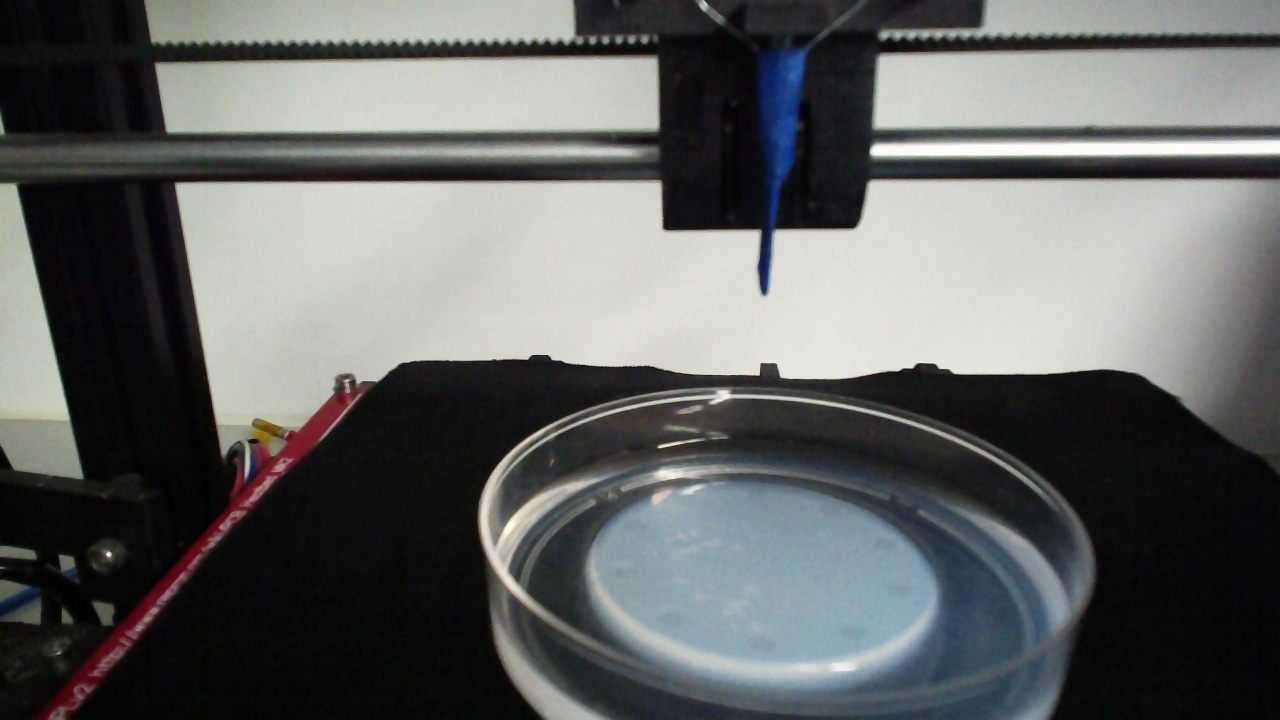groove: (886, 582, 914, 603), (621, 517, 650, 537), (608, 566, 639, 582), (746, 637, 778, 652), (655, 611, 685, 626), (839, 626, 866, 642), (872, 537, 898, 553), (818, 500, 842, 517)
needle: (760, 49, 805, 294)
